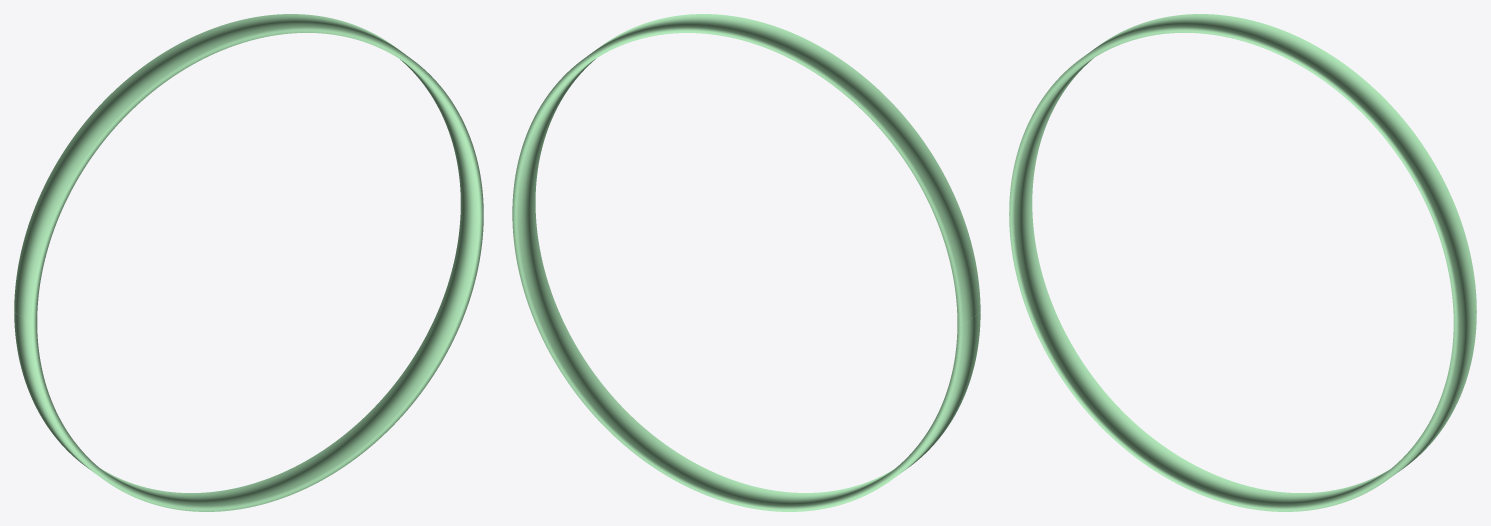
Rendered from coil_coil_4_tube.gltf.
3 renders of one model, left to right at view 1: azimuth 30°, elevation 25°; view 2: azimuth 150°, elevation 25°; view 3: azimuth 330°, elevation 25°, orthographic.
Parts seen in each view (by area): view 1: Renderer Node; view 2: Renderer Node; view 3: Renderer Node.
Part boxes in pixels (<box>): Renderer Node: <box>14,14,483,511</box>; Renderer Node: <box>512,14,980,511</box>; Renderer Node: <box>1009,14,1476,511</box>.
Size of the model in its own units: 0.6081 by 0.6081 by 0.0424.
